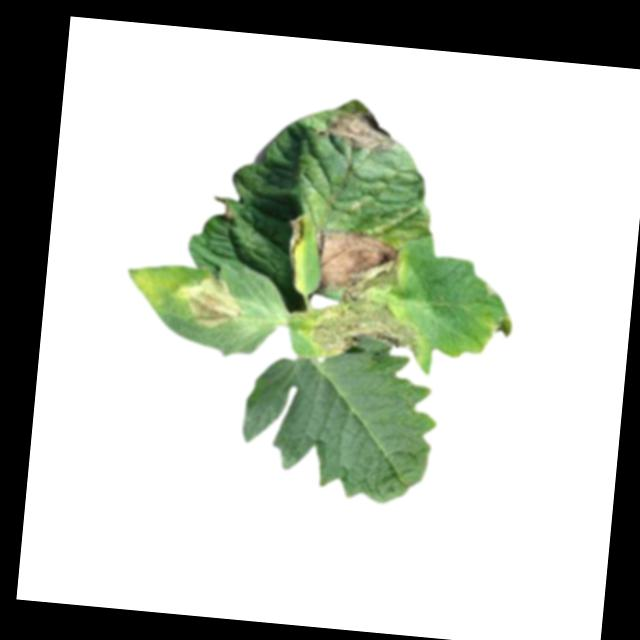Late_blight: (309, 295, 424, 364), (310, 225, 408, 305), (174, 272, 245, 333), (325, 106, 401, 154), (283, 218, 309, 281), (485, 310, 513, 343), (222, 199, 239, 221)
healthy: (235, 327, 445, 510)
